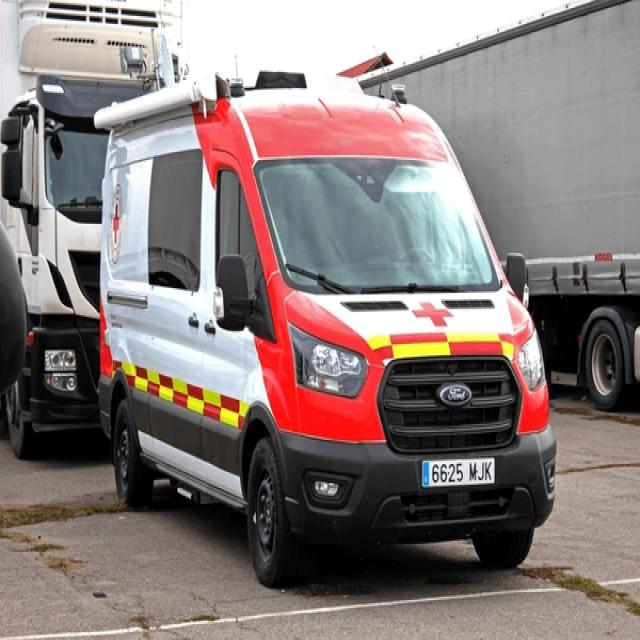Ambulance: (93, 72, 566, 607)
